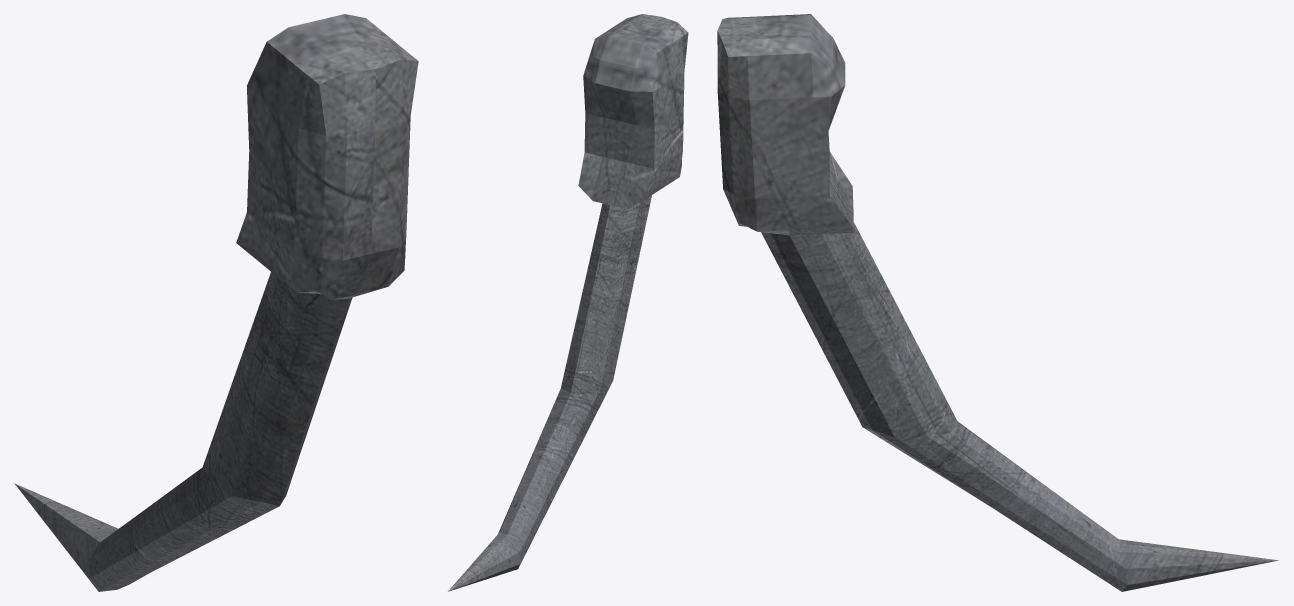
File: gancho.fbx
The picture shows the model from 3 angles, left to right: view 1: azimuth 30°, elevation 25°; view 2: azimuth 150°, elevation 25°; view 3: azimuth 270°, elevation 25°; orthographic projection. The views are drawn at different scales.
Parts seen in each view (by area): view 1: Gancho; view 2: Gancho; view 3: Gancho.
Part boxes in pixels (<box>): Gancho: <box>14,14,418,591</box>; Gancho: <box>448,14,688,591</box>; Gancho: <box>717,14,1278,591</box>.
Bounding box in the file's own units: 60.33 × 360 × 326.
